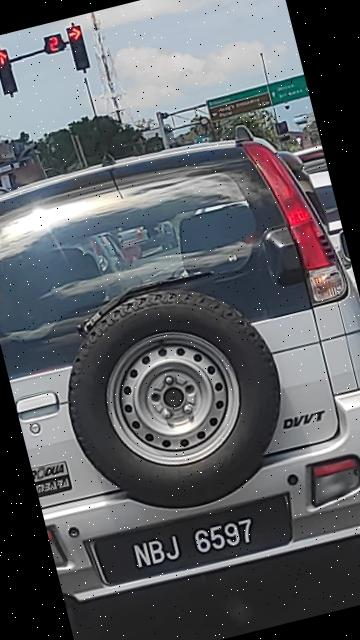License_Plate: (94, 494, 297, 591)
car: (1, 108, 360, 620)
